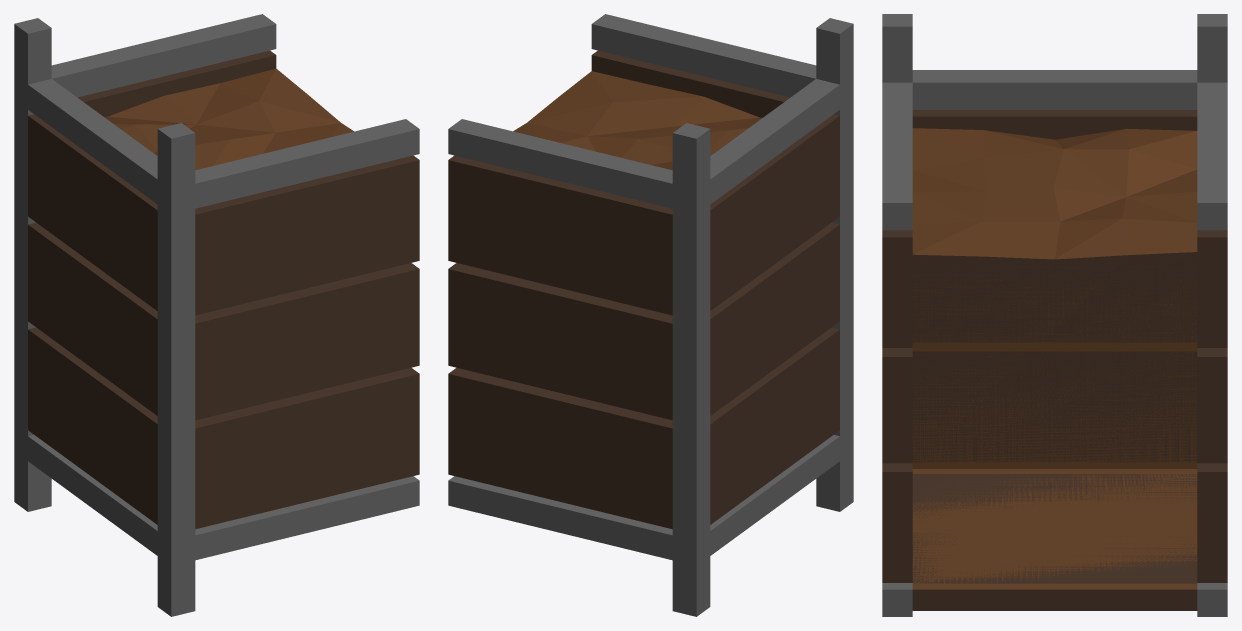
The model's file is PlanterBox_End.fbx.
The picture shows the model from 3 angles, left to right: view 1: azimuth 30°, elevation 25°; view 2: azimuth 150°, elevation 25°; view 3: azimuth 270°, elevation 25°; orthographic projection. The views are drawn at different scales.
Parts seen in each view (by area): view 1: PlanterBox.End; view 2: PlanterBox.End; view 3: PlanterBox.End.
Boxes of the visible parts, box(x1,y1,x2,y2) form: PlanterBox.End: box(14, 14, 419, 616); PlanterBox.End: box(448, 14, 853, 616); PlanterBox.End: box(882, 14, 1227, 616).
Size of the model in its own units: 0.5436 by 0.5958 by 1.
